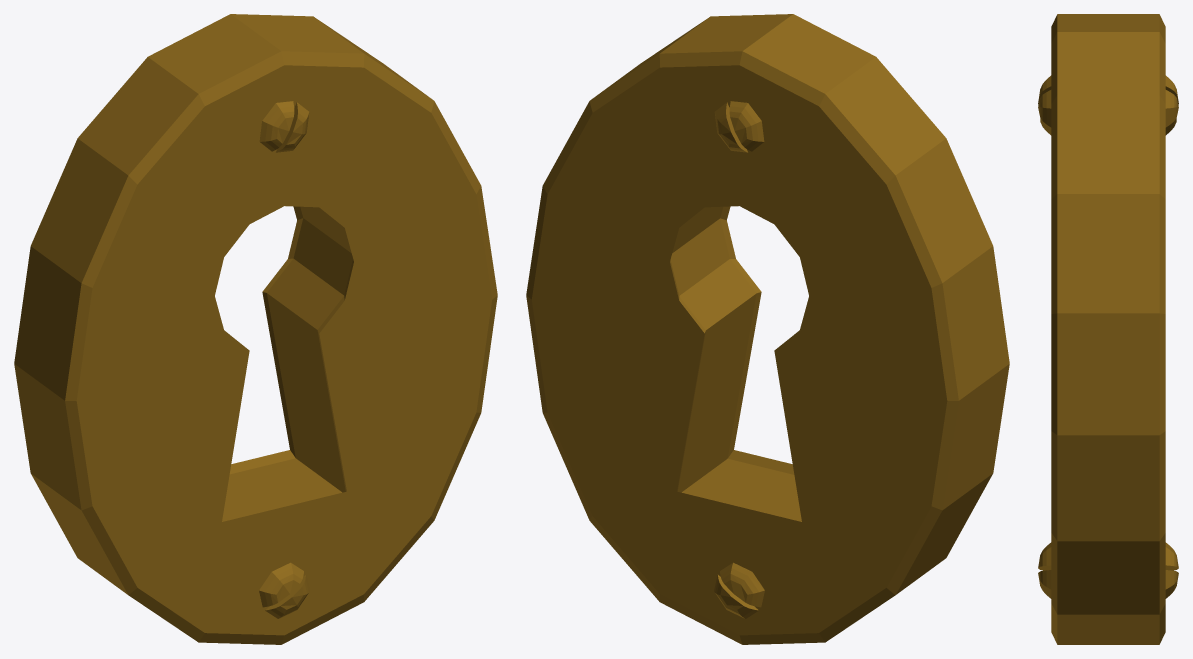
Rendered from keyhole_from_poly_by_google.glb.
3 views of the same model, side by side, from view 1: azimuth 30°, elevation 25°; view 2: azimuth 150°, elevation 25°; view 3: azimuth 270°, elevation 25° (orthographic).
Visible parts, largest first — view 1: Object_4; view 2: Object_4; view 3: Object_4.
Part boxes in pixels (x1=…): Object_4: x1=14, y1=14, x2=497, y2=644; Object_4: x1=526, y1=14, x2=1009, y2=644; Object_4: x1=1038, y1=14, x2=1178, y2=644.
Size of the model in its own units: 5.38 by 7.05 by 1.51.
